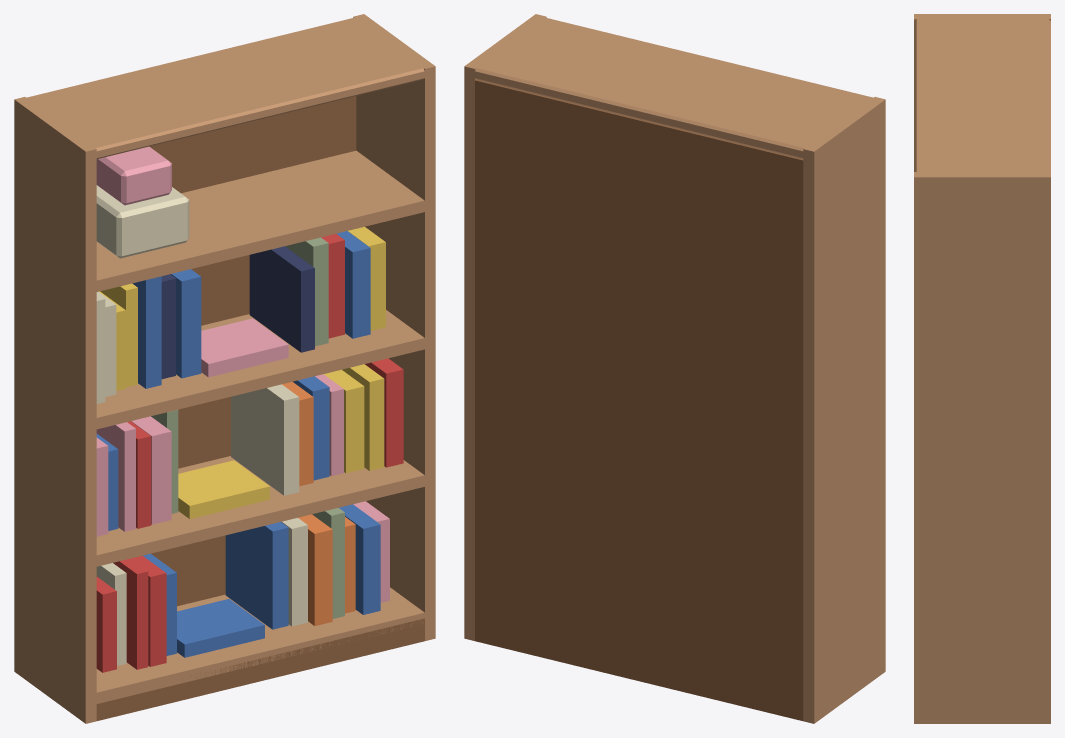
Rendered from bookshelf.glb.
3 renders of one model, left to right at view 1: azimuth 30°, elevation 25°; view 2: azimuth 150°, elevation 25°; view 3: azimuth 270°, elevation 25°, orthographic. The views are drawn at different scales.
Visible parts, largest first — view 1: bookshelf; view 2: bookshelf; view 3: bookshelf.
Boxes of the visible parts, x1,y1,x2,y2 form: bookshelf: (14, 14, 435, 723); bookshelf: (464, 14, 885, 723); bookshelf: (914, 14, 1050, 723).
Bounding box in the file's own units: 0.96 × 1.5 × 0.34.
Materials: 1 (1 with a texture image).
